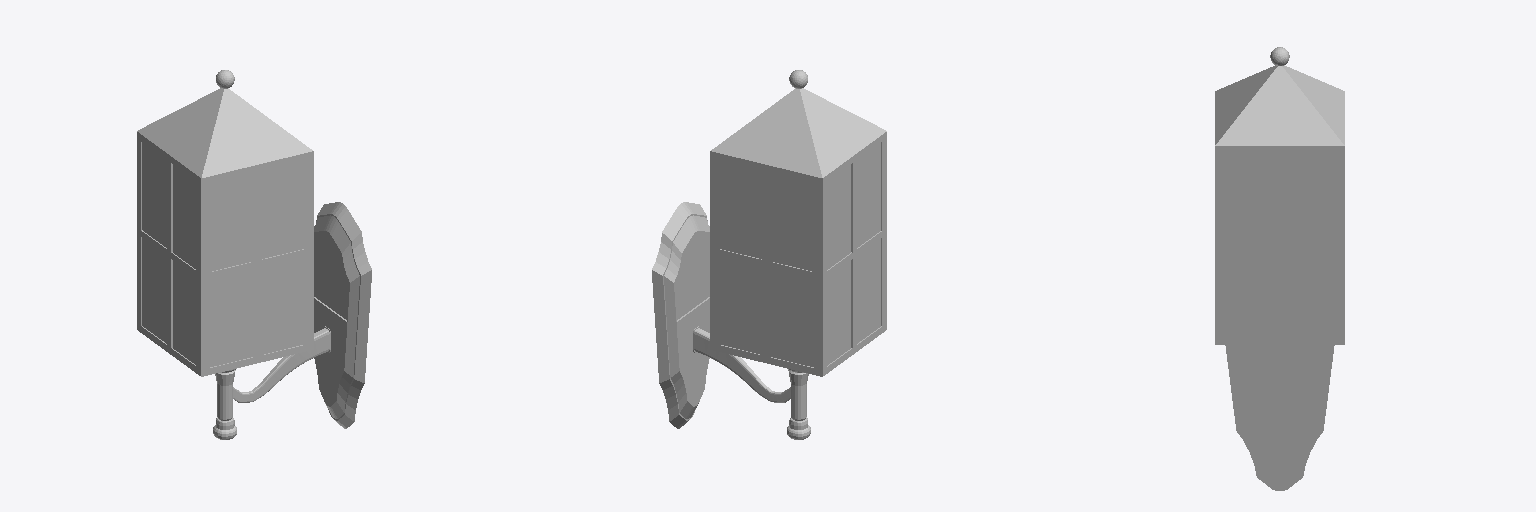
File: Lampara.obj
The picture shows the model from 3 angles: view 1: azimuth 30°, elevation 25°; view 2: azimuth 150°, elevation 25°; view 3: azimuth 270°, elevation 25°; orthographic projection.
Visible parts, largest first — view 1: Cube.001__0; view 2: Cube.001__0; view 3: Cube.001__0.
Part boxes in pixels (x1,y1,x2,y2): Cube.001__0: (137,70,371,439); Cube.001__0: (652,70,886,439); Cube.001__0: (1215,47,1344,490).
Bounding box in the file's own units: 13.93 × 29.54 × 8.99.